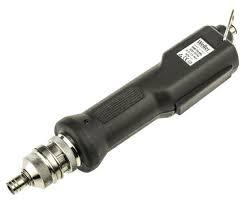screwdriver: (6, 22, 237, 195)
